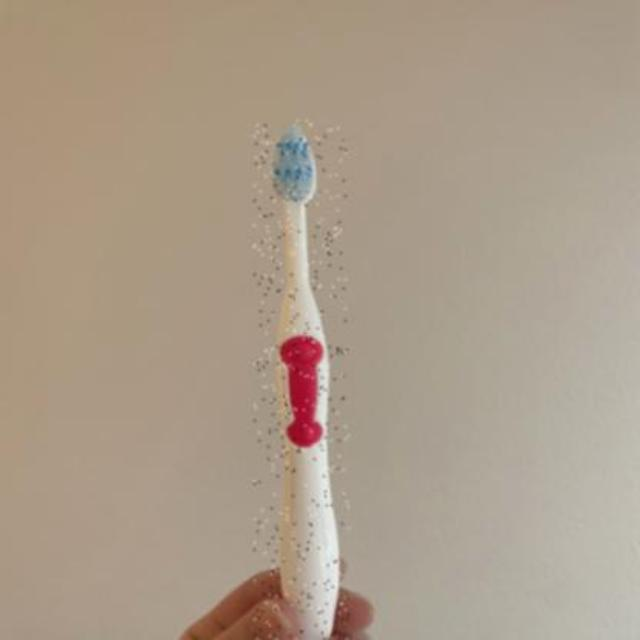toothbrush: (254, 120, 350, 640)
